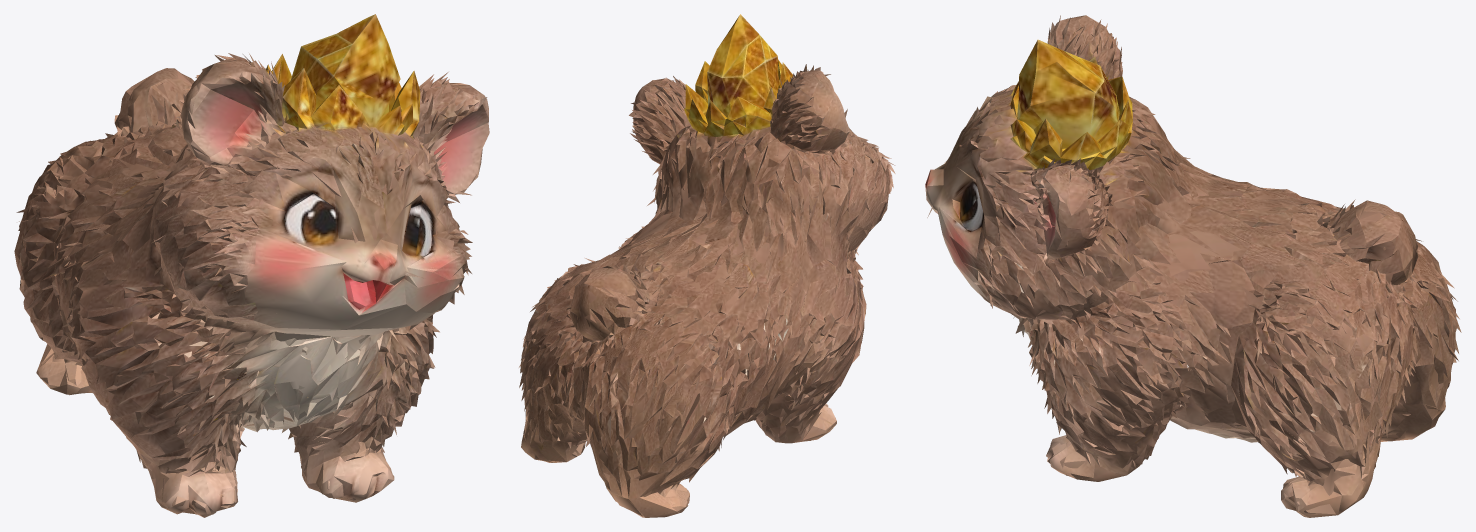
File: pyramidpika.glb
3 renders of one model, left to right at view 1: azimuth 30°, elevation 25°; view 2: azimuth 150°, elevation 25°; view 3: azimuth 270°, elevation 25°, orthographic. The views are drawn at different scales.
Size of the model in its own units: 0.7332 by 1 by 1.13.
Materials: 1 (1 with a texture image).
